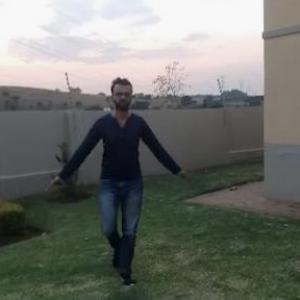land: (44, 66, 188, 288)
